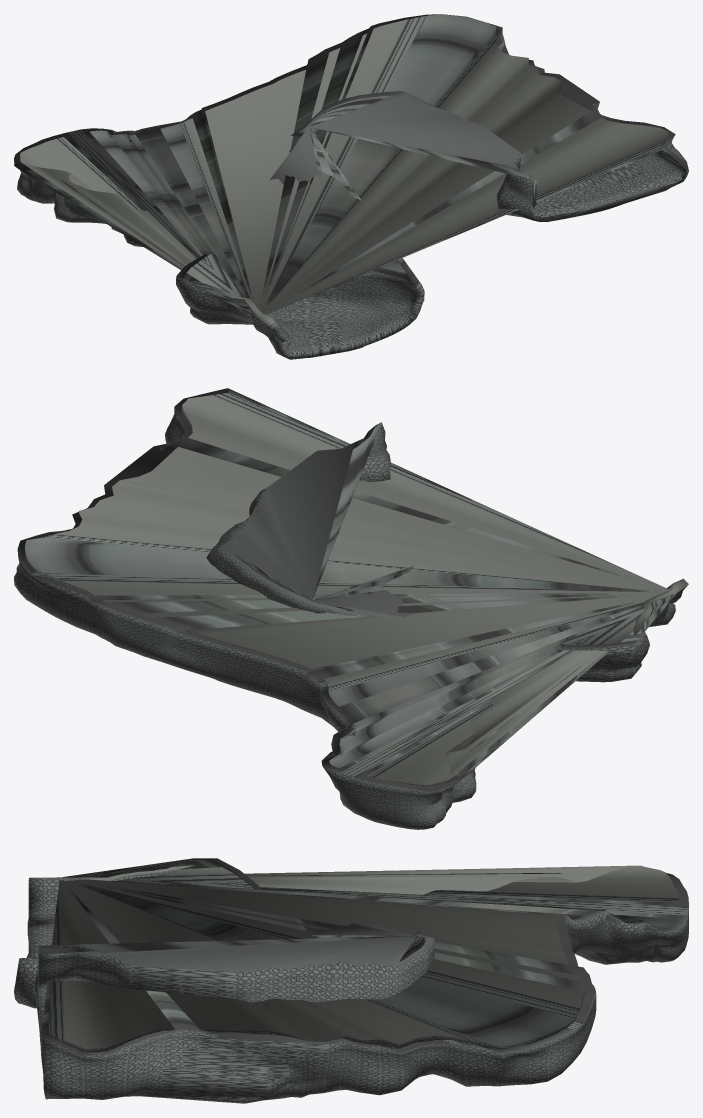
File: cave 1.fbx
3 views of the same model, one above another, from view 1: azimuth 30°, elevation 25°; view 2: azimuth 150°, elevation 25°; view 3: azimuth 270°, elevation 25° (orthographic). The views are drawn at different scales.
Parts seen in each view (by area): view 1: Cube; view 2: Cube; view 3: Cube.
Boxes of the visible parts, x1,y1,x2,y2 form: Cube: (14, 14, 688, 359); Cube: (14, 388, 688, 829); Cube: (14, 858, 688, 1103).
Size of the model in its own units: 4218 by 1098 by 4118.
